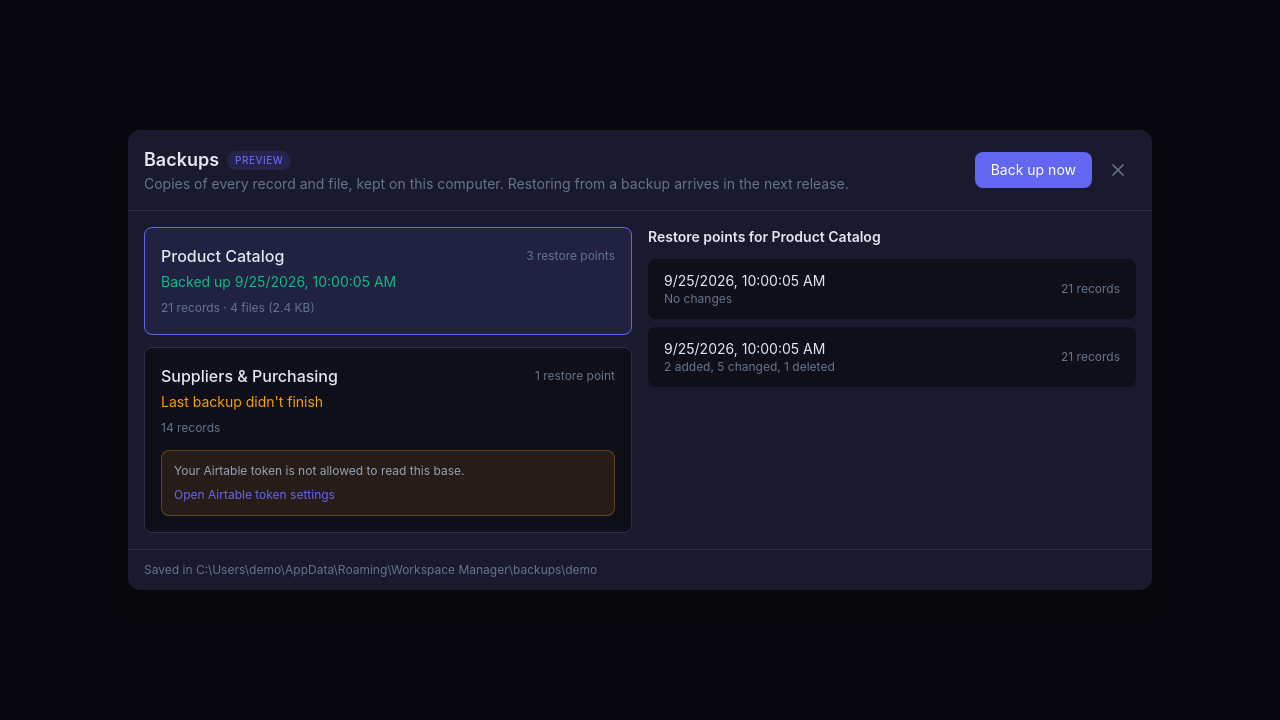
Test: BackupsPanel › shows why a base didn't finish when the backup can't record it
Click the button "Back up now".
click(1033, 170)  # box left=975, top=152, right=1092, bottom=188
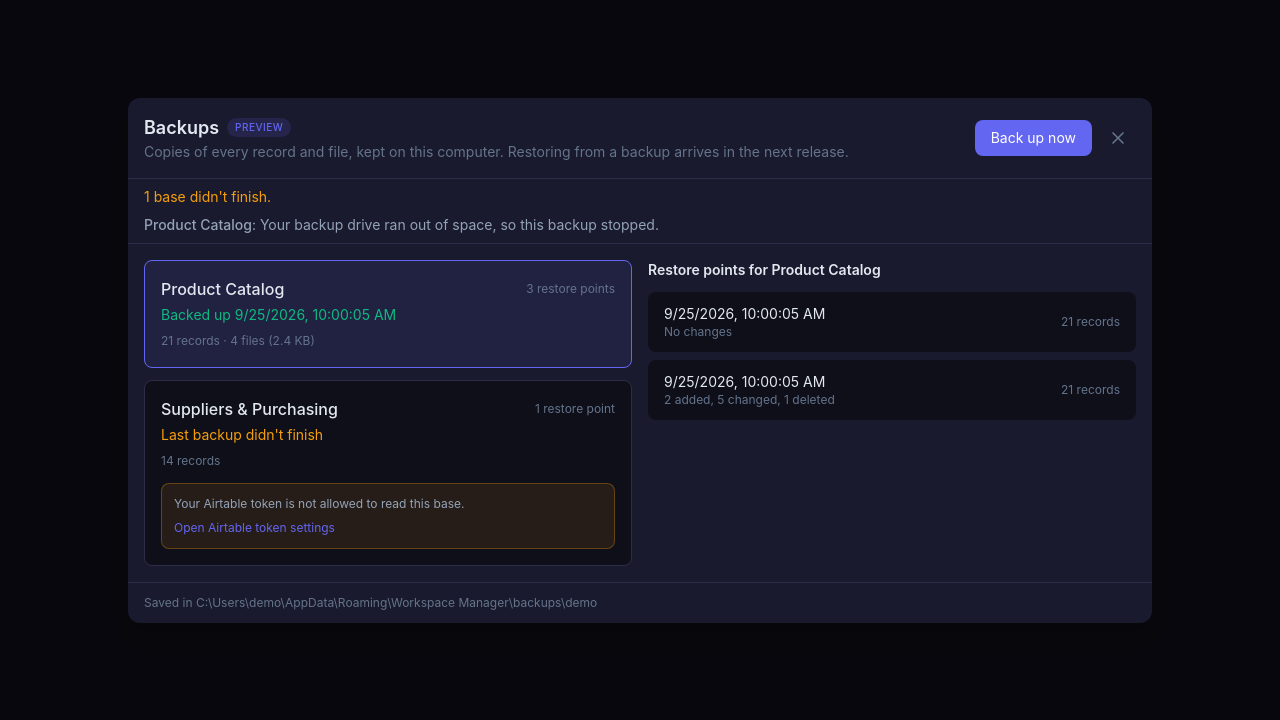
Expected: the text "1 base didn't finish." is shown, left=144, top=188, right=271, bottom=204
Expected: the text "Your backup drive ran out of space, so this backup stopped." is shown, left=260, top=216, right=659, bottom=232
